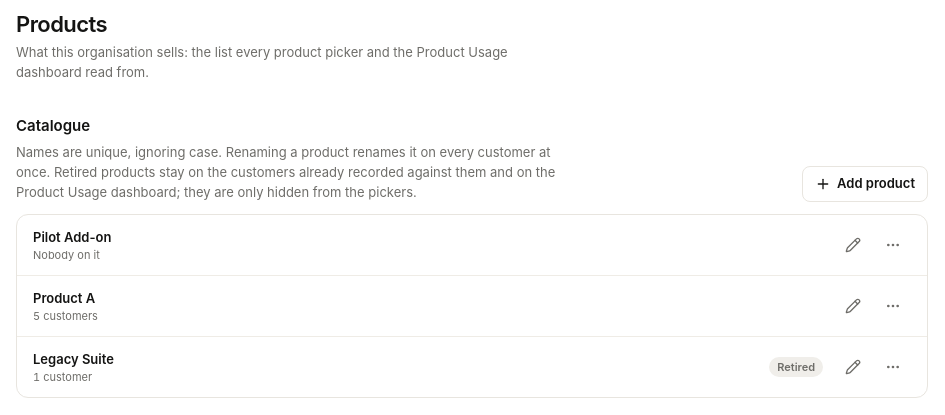
Test: ProductsPage › retires a product rather than deleting one customers are on
Expected: the text "Product A" is shown, [33,290,95,306]
Note: Five customers are on it, so there is no Delete to be refused.
Click the button named "More actions for Product A" at (893, 306), box [875,288,911,324]
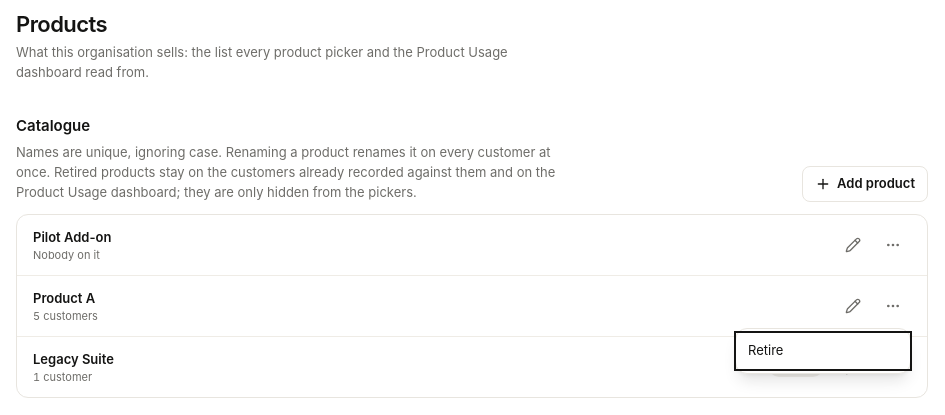
Expected: the menu items read "Retire", in this order
Click the menu item "Retire" at (823, 351), box [736,333,910,369]
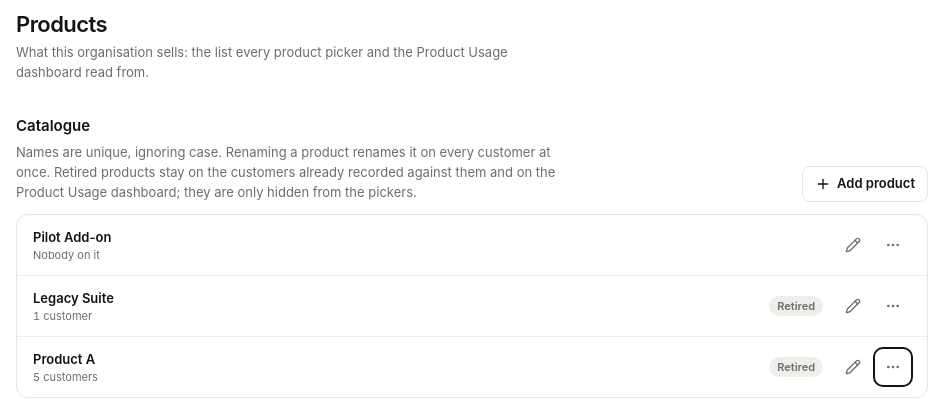
Expected: the text "Retired" in the row of "Product A" is shown, [777,360,815,374]
